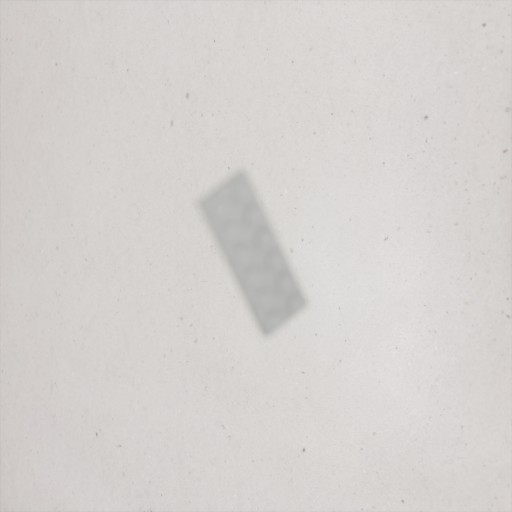lego: (195, 167, 310, 339)
